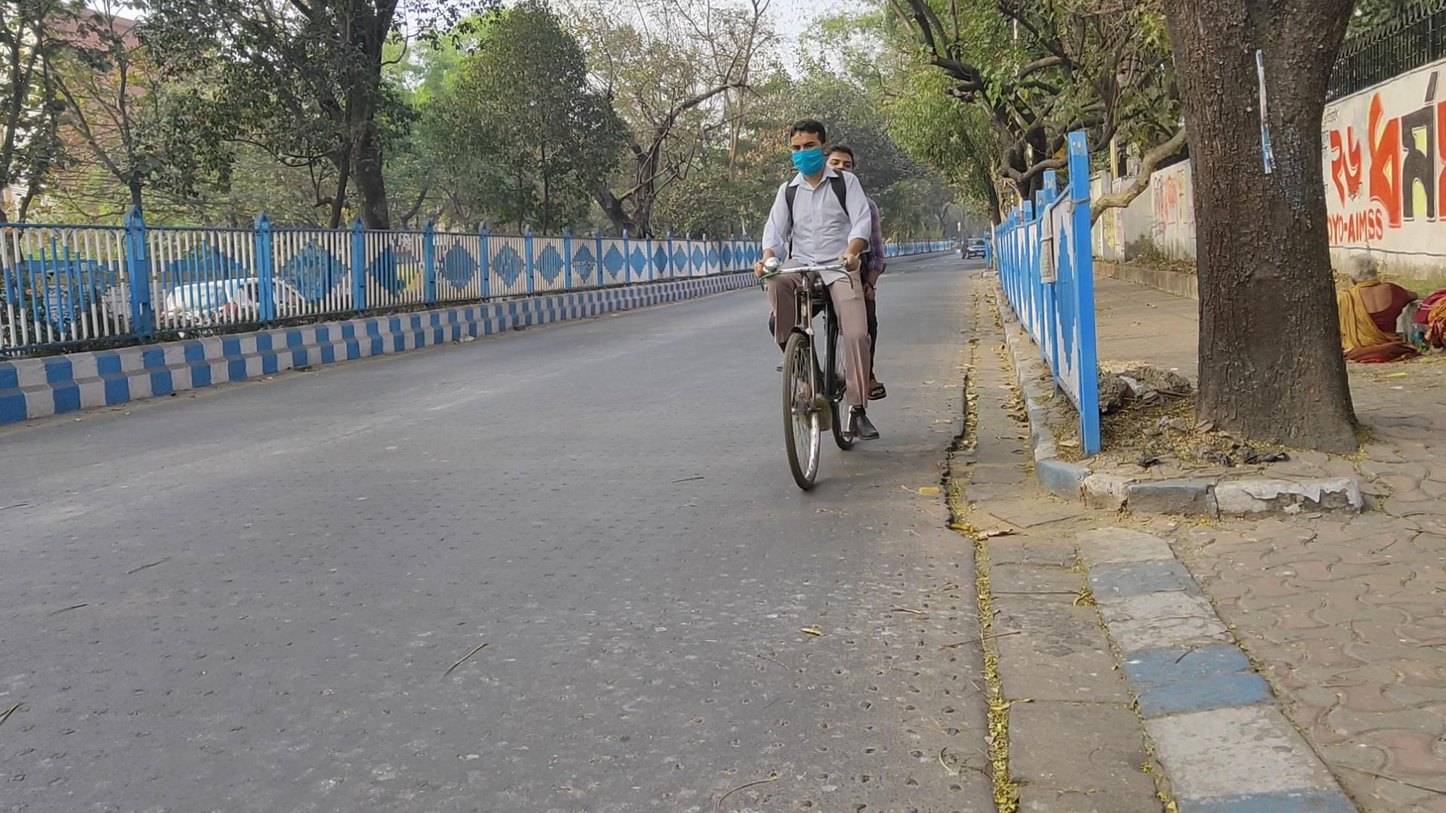bike: (757, 119, 888, 492)
car: (960, 236, 987, 260)
